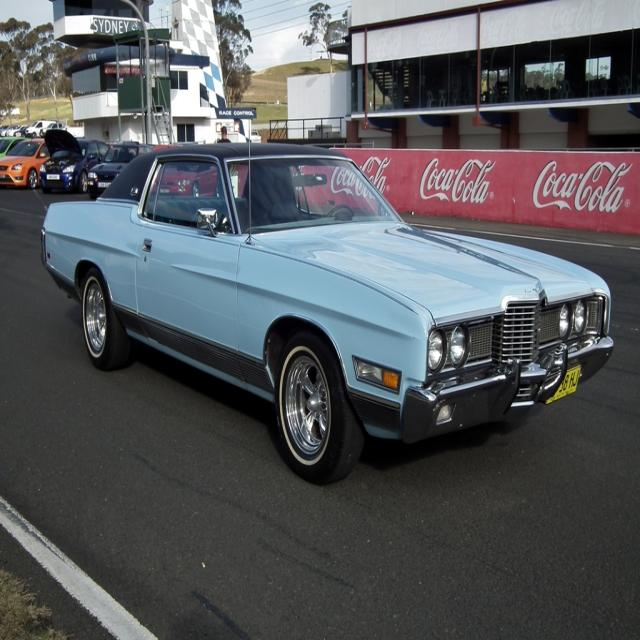car: (39, 119, 613, 482)
